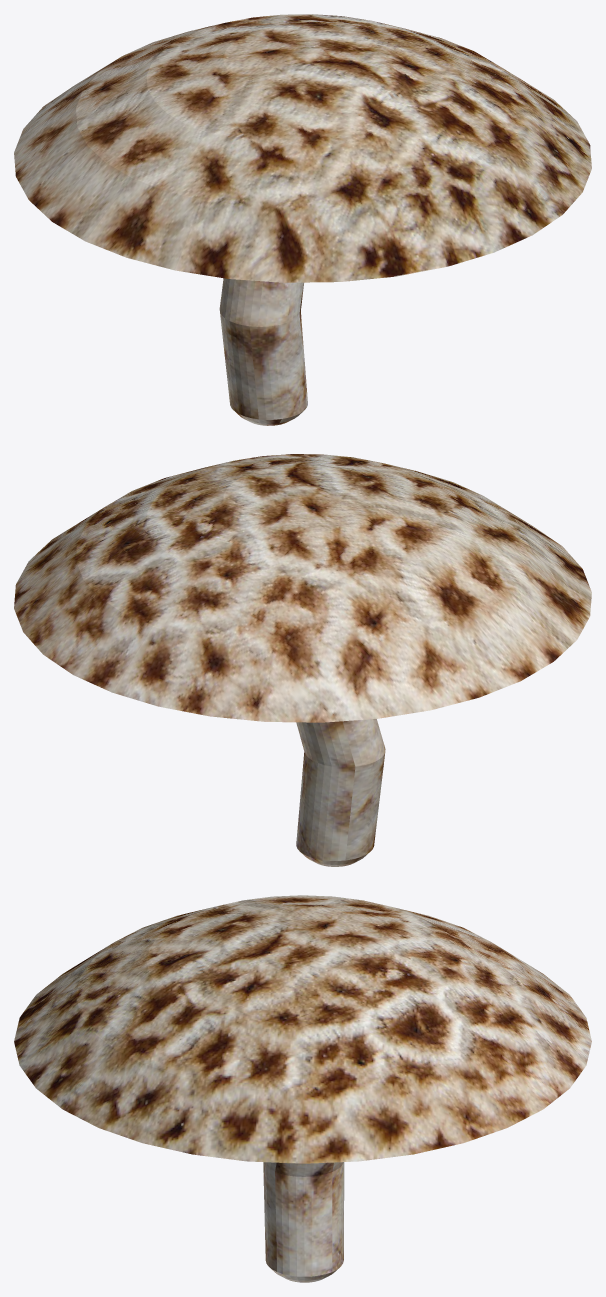
Rendered from mushroom.obj.
3 views of the same model, one above another, from view 1: azimuth 30°, elevation 25°; view 2: azimuth 150°, elevation 25°; view 3: azimuth 270°, elevation 25° (orthographic).
Bounding box in the file's own units: 1.41 × 0.9752 × 1.41.
1 material, 1 textured.
